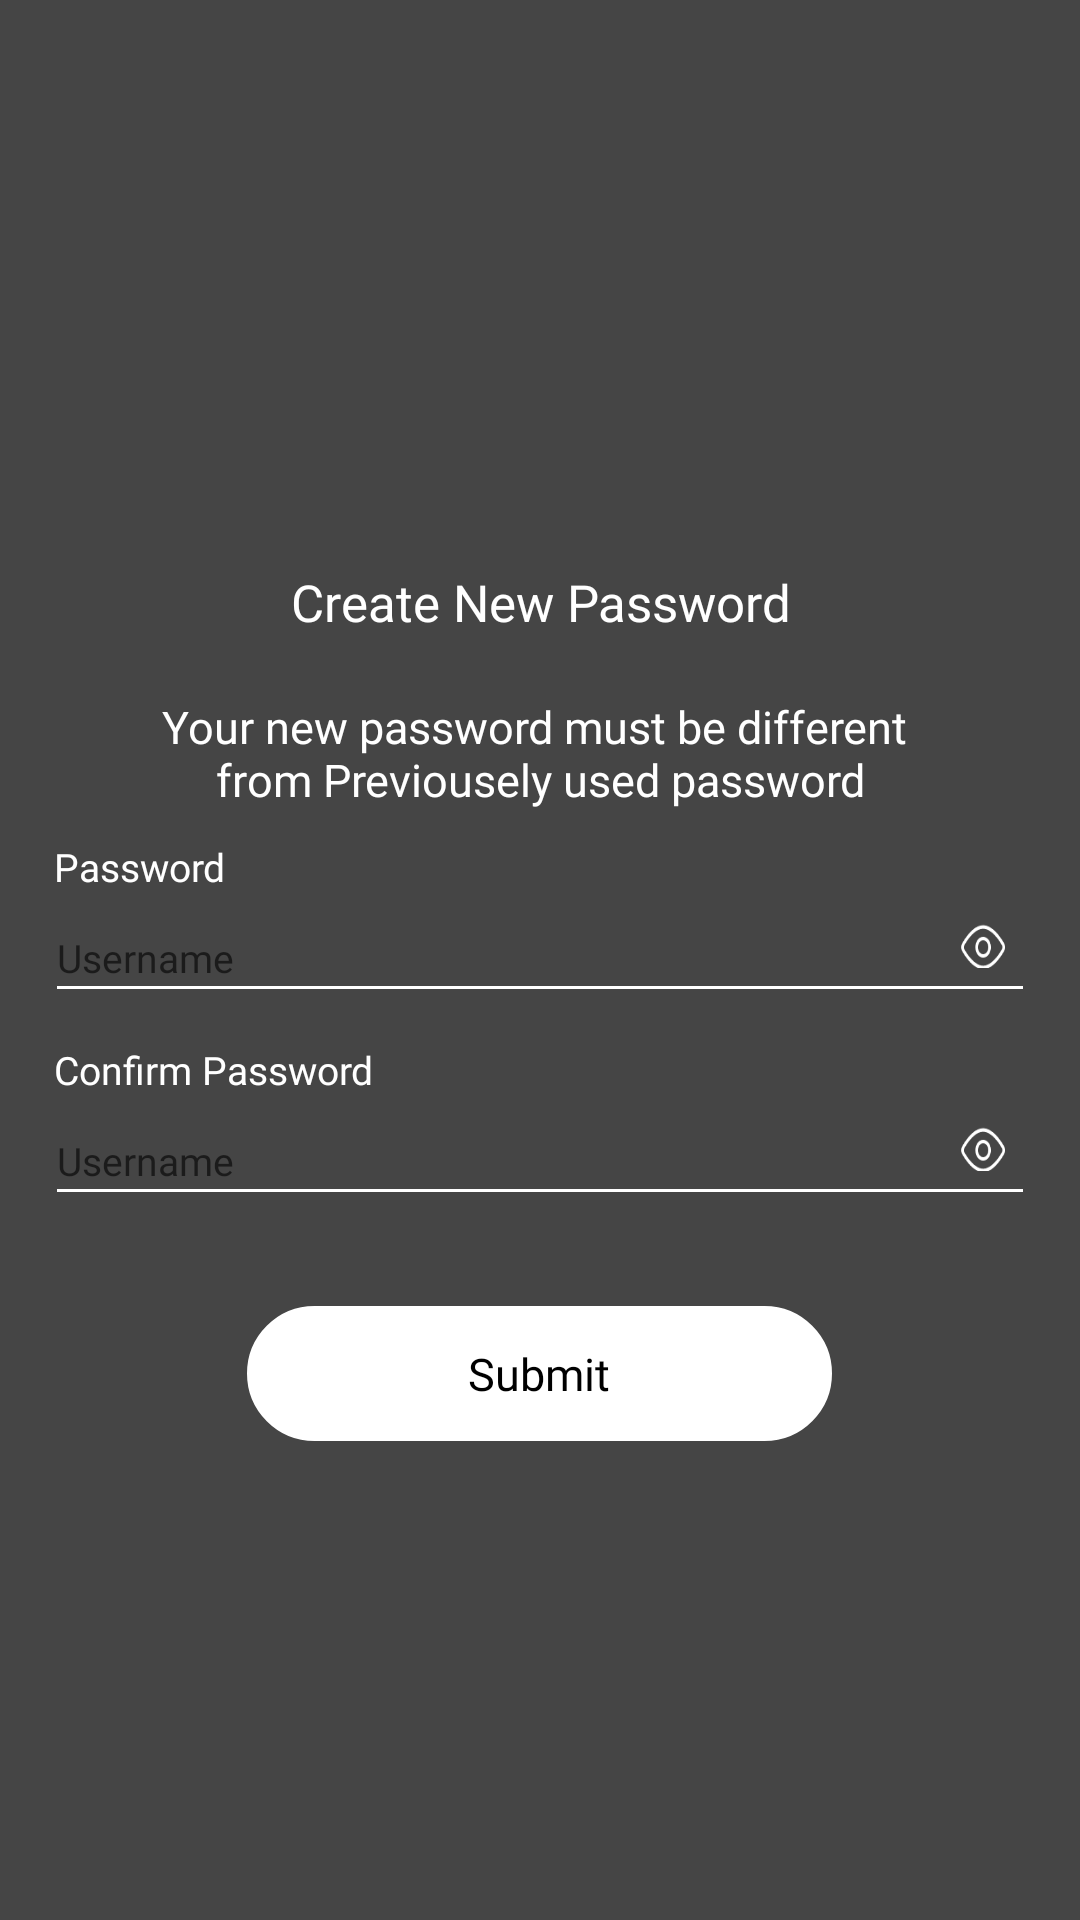

Icons on this 1080*1920 Android screen, each with the point to tap as (x,y):
eye: (983,946), (983,1149)
